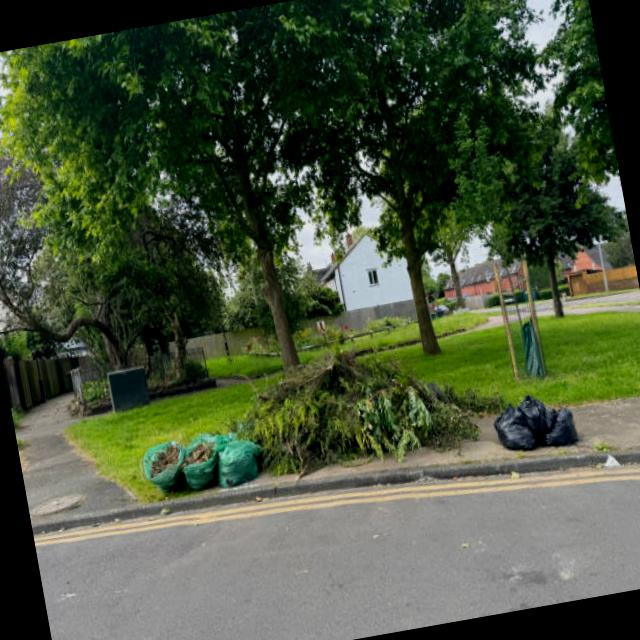garbage: (144, 434, 260, 496)
